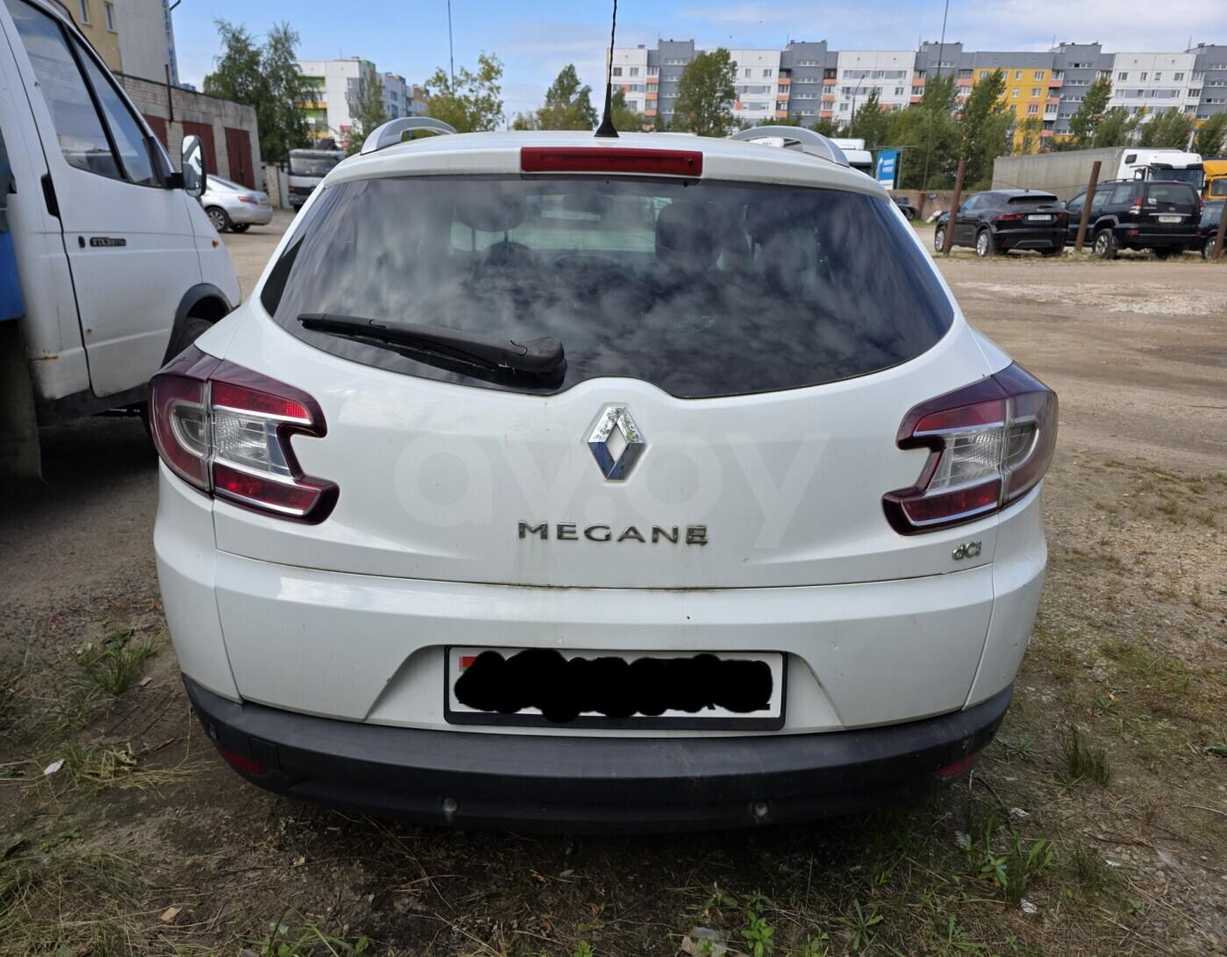Megane_2008-2014: (138, 120, 1071, 811)
